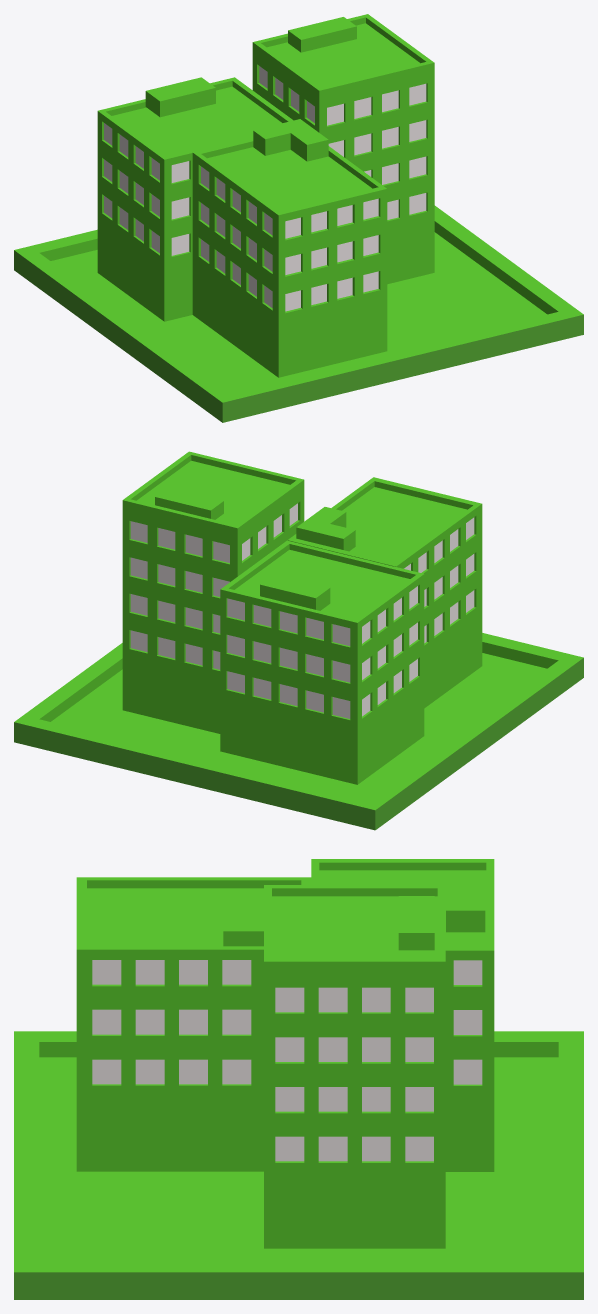
The model's file is greenapartmentlevel1 (1).fbx.
3 renders of one model, top to bottom at view 1: azimuth 30°, elevation 25°; view 2: azimuth 150°, elevation 25°; view 3: azimuth 270°, elevation 25°, orthographic. The views are drawn at different scales.
Visible parts, largest first — view 1: aparmantbasegreen, build2green, build1green, build3green, build2light2green, build2light3green, build2light1green, build1light4green, build1light3green, build3light2green, build3light3green, build3light1green (+2 smaller); view 2: build3green, aparmantbasegreen, build1green, build2green, build3light2green, build3light3green, build3light1green, build1light4green, build1light3green, build1light1green, build1light2green, build2light3green (+2 smaller); view 3: aparmantbasegreen, build1green, build2green, build3green, build2light2green, build2light1green, build1light4green, build1light1green, build2light3green, build1light3green, build1light2green, build3light1green (+2 smaller).
Part boxes in pixels (bbox=[...]): aparmantbasegreen: bbox=[14, 205, 583, 422]; build2green: bbox=[192, 119, 387, 377]; build1green: bbox=[252, 14, 434, 284]; build3green: bbox=[97, 77, 293, 321]; build2light2green: bbox=[201, 203, 378, 274]; build2light3green: bbox=[201, 166, 378, 238]; build2light1green: bbox=[201, 239, 378, 311]; build1light4green: bbox=[259, 66, 426, 125]; build1light3green: bbox=[328, 120, 426, 156]; build3light2green: bbox=[104, 159, 189, 219]; build3light3green: bbox=[104, 123, 189, 182]; build3light1green: bbox=[104, 196, 189, 255]; build3green: bbox=[220, 540, 424, 784]; aparmantbasegreen: bbox=[14, 633, 583, 830]; build1green: bbox=[122, 451, 304, 733]; build2green: bbox=[287, 477, 482, 708]; build3light2green: bbox=[227, 622, 417, 682]; build3light3green: bbox=[227, 586, 417, 645]; build3light1green: bbox=[227, 659, 417, 718]; build1light4green: bbox=[130, 503, 297, 562]; build1light3green: bbox=[130, 557, 229, 596]; build1light1green: bbox=[130, 630, 220, 669]; build1light2green: bbox=[130, 594, 220, 633]; build2light3green: bbox=[404, 517, 474, 572]; aparmantbasegreen: bbox=[14, 1031, 583, 1299]; build1green: bbox=[264, 885, 445, 1248]; build2green: bbox=[76, 877, 311, 1171]; build3green: bbox=[311, 859, 494, 1171]; build2light2green: bbox=[92, 1009, 251, 1034]; build2light1green: bbox=[92, 1059, 251, 1084]; build1light4green: bbox=[275, 987, 433, 1012]; build1light1green: bbox=[275, 1136, 433, 1161]; build2light3green: bbox=[92, 960, 251, 984]; build1light3green: bbox=[275, 1037, 433, 1061]; build1light2green: bbox=[275, 1087, 433, 1111]; build3light1green: bbox=[453, 1059, 482, 1084].
Size of the model in its own units: 568 by 340 by 568.
